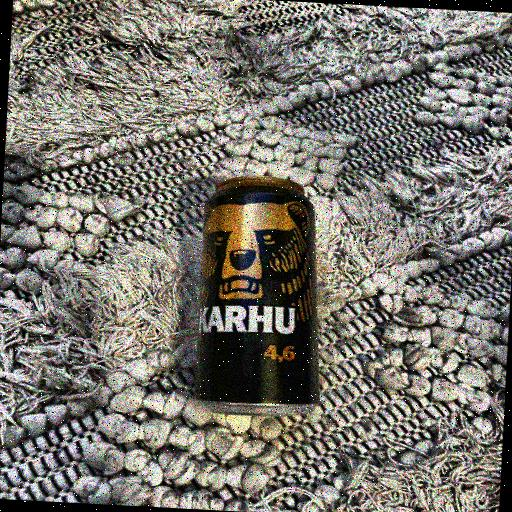karhu: (176, 160, 354, 431)
